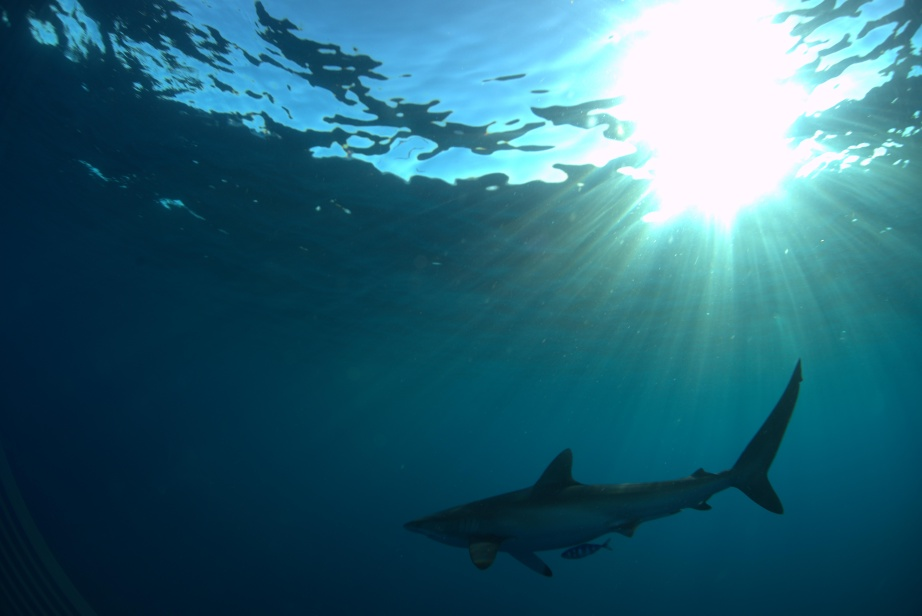Sedoso: (391, 354, 845, 586)
